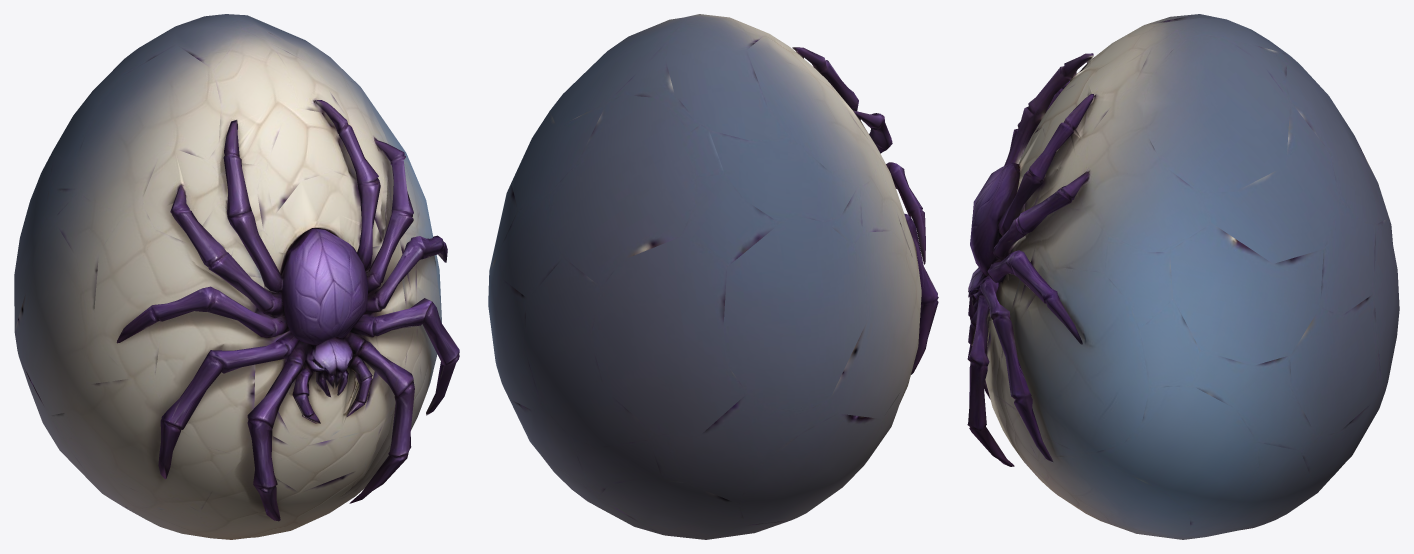
File: ovo_v01.glb
3 renders of one model, left to right at view 1: azimuth 30°, elevation 25°; view 2: azimuth 150°, elevation 25°; view 3: azimuth 270°, elevation 25°, orthographic.
Size of the model in its own units: 0.9464 by 1.19 by 0.9473.
Materials: 1 (1 with a texture image).
